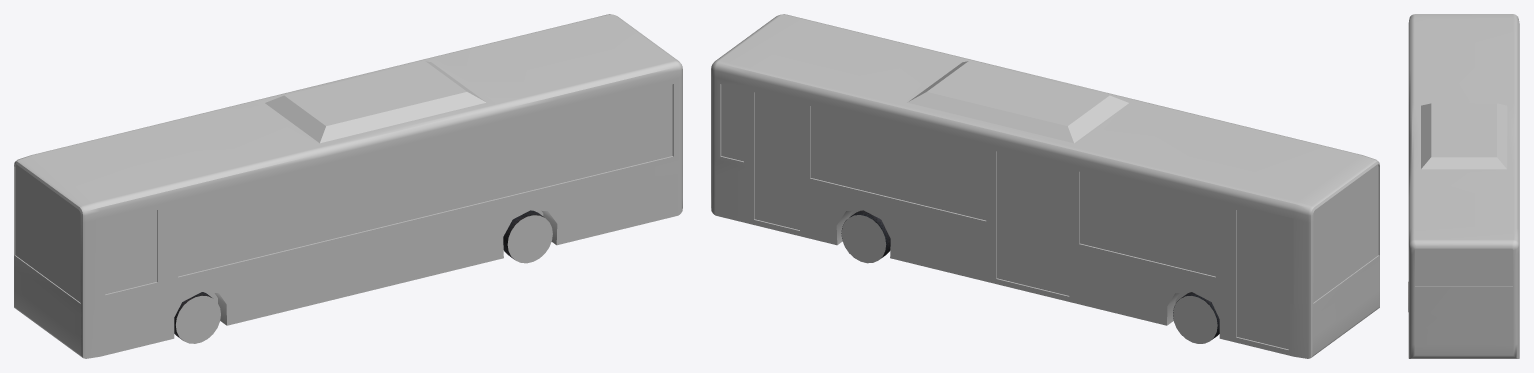
Rendered from Bus2.fbx.
3 renders of one model, left to right at view 1: azimuth 30°, elevation 25°; view 2: azimuth 150°, elevation 25°; view 3: azimuth 270°, elevation 25°, orthographic. The views are drawn at different scales.
Parts seen in each view (by area): view 1: BUS_CORRECCIONES, polySurface114, polySurface111; view 2: BUS_CORRECCIONES, polySurface113, polySurface112; view 3: BUS_CORRECCIONES.
Part boxes in pixels (x1,y1,x2,y2): BUS_CORRECCIONES: (14, 14, 682, 358); polySurface114: (503, 210, 552, 263); polySurface111: (174, 292, 220, 343); BUS_CORRECCIONES: (711, 14, 1379, 358); polySurface113: (841, 210, 890, 263); polySurface112: (1173, 292, 1219, 343); BUS_CORRECCIONES: (1408, 14, 1519, 358).
Size of the model in its own units: 483 by 132 by 98.62.
